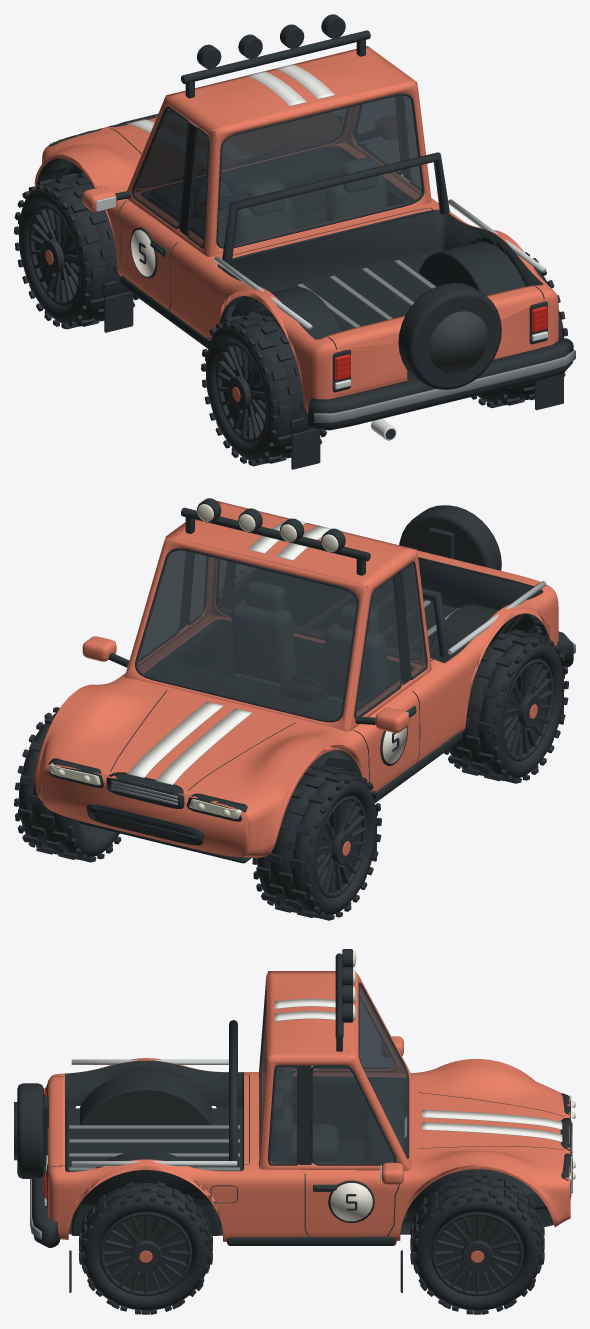
The model's file is tora.fbx.
3 renders of one model, top to bottom at view 1: azimuth 30°, elevation 25°; view 2: azimuth 150°, elevation 25°; view 3: azimuth 270°, elevation 25°, orthographic. The views are drawn at different scales.
Visible parts, largest first — view 1: Body, Wheel_RL_Mesh, Wheel_FL_Mesh, Wheel_RR_Mesh; view 2: Body, Wheel_FL_Mesh, Wheel_RL_Mesh, Wheel_FR_Mesh; view 3: Body, Wheel_FR_Mesh, Wheel_RR_Mesh.
Part boxes in pixels (x1=…): Body: x1=34, y1=14, x2=575, y2=469; Wheel_RL_Mesh: x1=201, y1=312, x2=326, y2=466; Wheel_FL_Mesh: x1=14, y1=172, x2=138, y2=329; Wheel_RR_Mesh: x1=471, y1=252, x2=567, y2=408; Body: x1=34, y1=498, x2=575, y2=863; Wheel_FL_Mesh: x1=252, y1=763, x2=381, y2=920; Wheel_RL_Mesh: x1=444, y1=629, x2=568, y2=783; Wheel_FR_Mesh: x1=14, y1=707, x2=121, y2=862; Body: x1=14, y1=949, x2=575, y2=1292; Wheel_FR_Mesh: x1=410, y1=1173, x2=544, y2=1314; Wheel_RR_Mesh: x1=79, y1=1182, x2=212, y2=1314.
Size of the model in its own units: 246 by 230 by 424.
